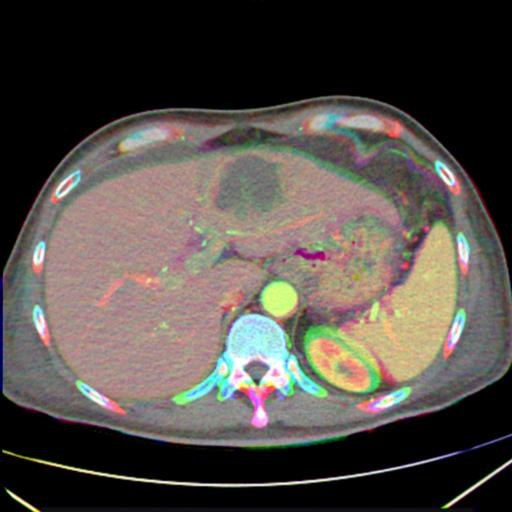Tumor: (215, 154, 281, 219)
